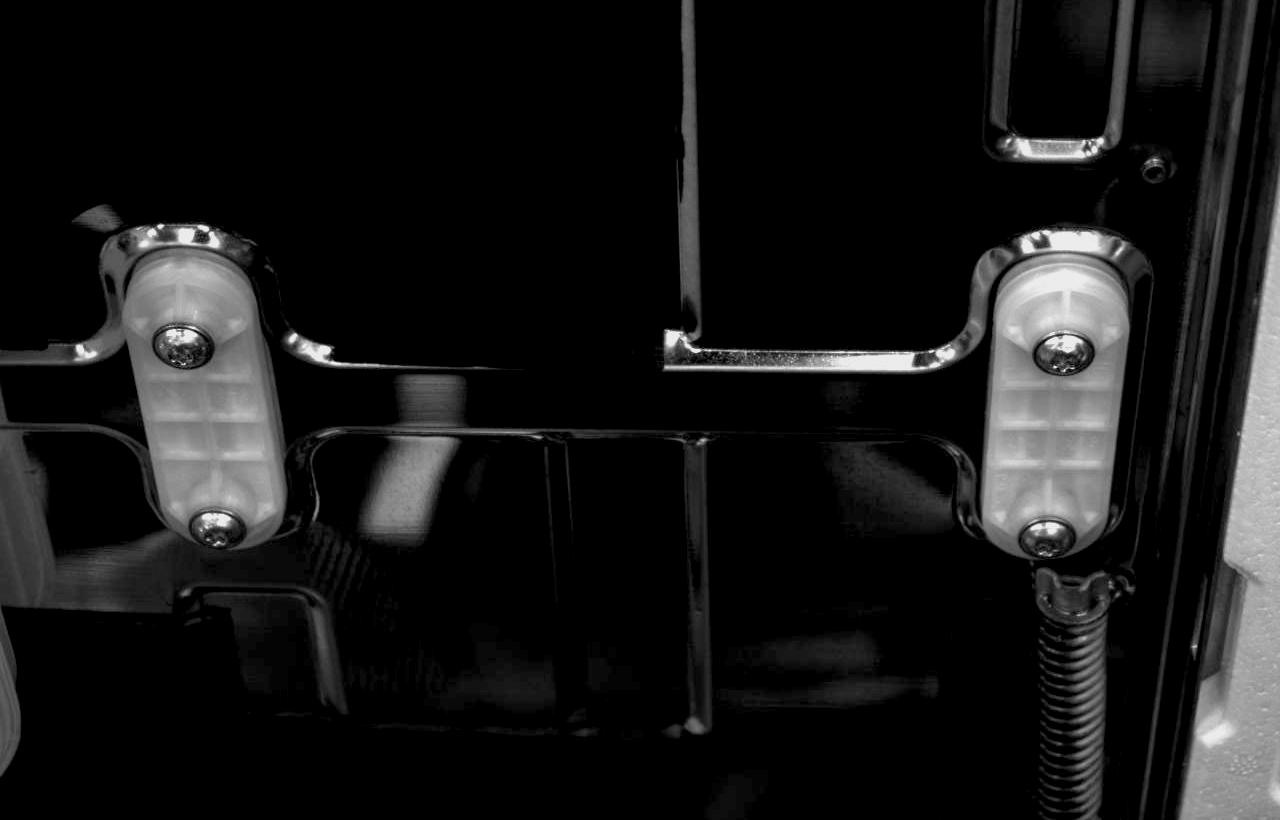vida-ok: (144, 308, 216, 375), (1030, 325, 1097, 392), (184, 498, 250, 557), (1017, 504, 1083, 562)
